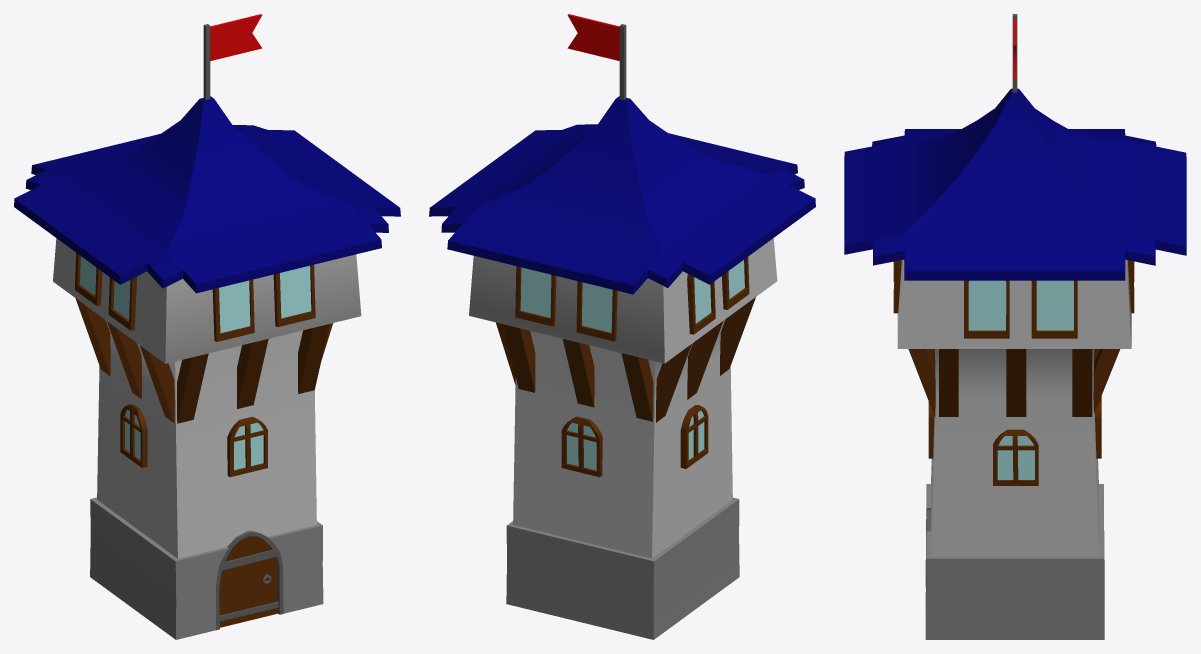
Rendered from GuardTowerUnity.fbx.
3 views of the same model, side by side, from view 1: azimuth 30°, elevation 25°; view 2: azimuth 150°, elevation 25°; view 3: azimuth 270°, elevation 25° (orthographic). The views are drawn at different scales.
Parts seen in each view (by area): view 1: pCube29; view 2: pCube29; view 3: pCube29.
Part boxes in pixels (left/top/right/bottom): pCube29: left=14, top=14, right=400, bottom=639; pCube29: left=429, top=14, right=815, bottom=639; pCube29: left=844, top=14, right=1186, bottom=639.
Bounding box in the file's own units: 8.1 × 15.59 × 8.24.
